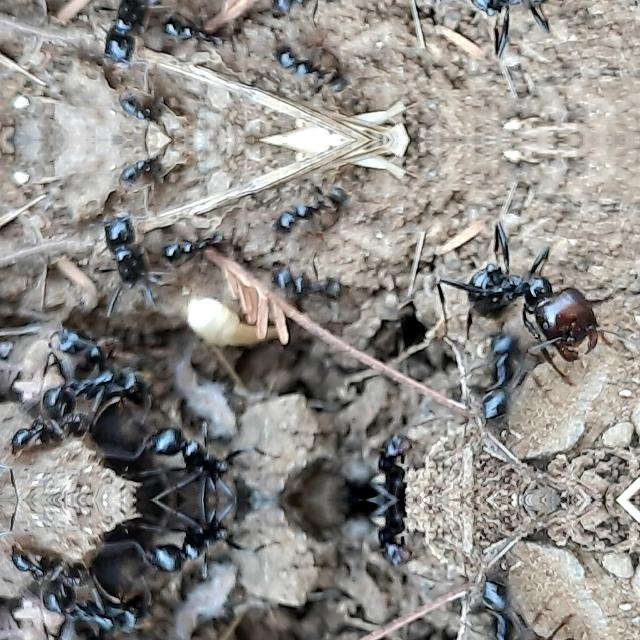Messor: (450, 220, 598, 360), (450, 0, 598, 60), (91, 202, 171, 298), (262, 161, 354, 243), (262, 37, 354, 119), (40, 359, 158, 413), (40, 587, 158, 640), (91, 0, 171, 77), (146, 428, 240, 488), (146, 512, 240, 572), (468, 322, 522, 426), (363, 421, 431, 499), (363, 501, 431, 579), (5, 409, 94, 457), (5, 543, 94, 591), (275, 256, 347, 310), (468, 574, 521, 640), (173, 222, 235, 270), (173, 10, 235, 58), (118, 142, 174, 192), (118, 88, 174, 138), (275, 0, 347, 24)
